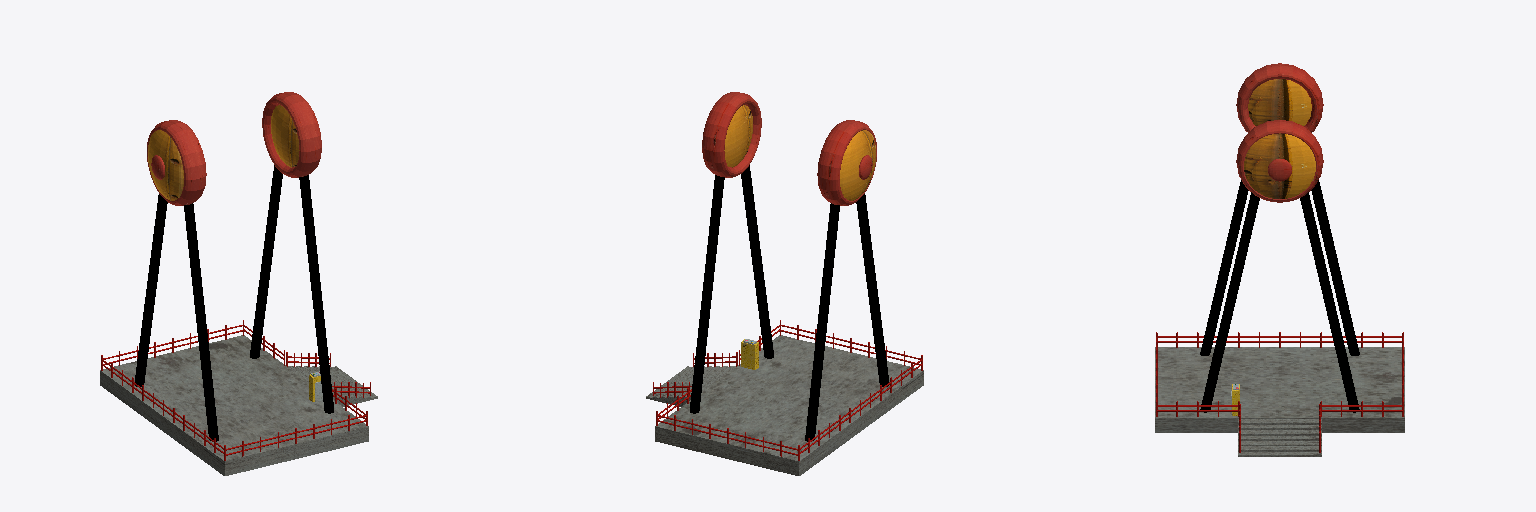
3 renders of one model, left to right at view 1: azimuth 30°, elevation 25°; view 2: azimuth 150°, elevation 25°; view 3: azimuth 270°, elevation 25°, orthographic.
Visible parts, largest first — view 1: pCube1, pTorus5, pCylinder66, pCylinder130, pTorus4, pCylinder67, pCylinder131, pSphere3, pSphere1; view 2: pCube1, pTorus5, pCylinder67, pCylinder131, pTorus4, pCylinder66, pCylinder130, pSphere3, pSphere1; view 3: pCube1, pSphere1, pSphere3, pCylinder66, pCylinder67, pTorus4, pTorus5, pCylinder130, pCylinder131.
Boxes of the visible parts, x1=… form: pCube1: x1=100, y1=335, x2=368, y2=475; pTorus5: x1=262, y1=92, x2=321, y2=177; pCylinder66: x1=299, y1=175, x2=333, y2=413; pCylinder130: x1=184, y1=203, x2=218, y2=441; pTorus4: x1=147, y1=120, x2=206, y2=205; pCylinder67: x1=250, y1=165, x2=282, y2=358; pCylinder131: x1=135, y1=194, x2=167, y2=386; pSphere3: x1=148, y1=130, x2=183, y2=200; pSphere1: x1=271, y1=105, x2=299, y2=167; pCube1: x1=655, y1=335, x2=923, y2=475; pTorus5: x1=702, y1=92, x2=761, y2=177; pCylinder67: x1=690, y1=175, x2=724, y2=413; pCylinder131: x1=805, y1=203, x2=839, y2=441; pTorus4: x1=817, y1=120, x2=876, y2=205; pCylinder66: x1=741, y1=165, x2=773, y2=358; pCylinder130: x1=856, y1=194, x2=888, y2=386; pSphere3: x1=840, y1=130, x2=875, y2=200; pSphere1: x1=724, y1=105, x2=752, y2=167; pCube1: x1=1155, y1=347, x2=1404, y2=432; pSphere1: x1=1244, y1=133, x2=1315, y2=198; pSphere3: x1=1248, y1=79, x2=1311, y2=125; pCylinder66: x1=1200, y1=192, x2=1259, y2=412; pCylinder67: x1=1300, y1=192, x2=1359, y2=412; pTorus4: x1=1236, y1=63, x2=1323, y2=132; pTorus5: x1=1236, y1=120, x2=1323, y2=202; pCylinder130: x1=1200, y1=180, x2=1248, y2=355; pCylinder131: x1=1311, y1=180, x2=1359, y2=355.
Bounding box in the file's own units: 28 × 40.25 × 30.
Materials: 11 (9 with a texture image).